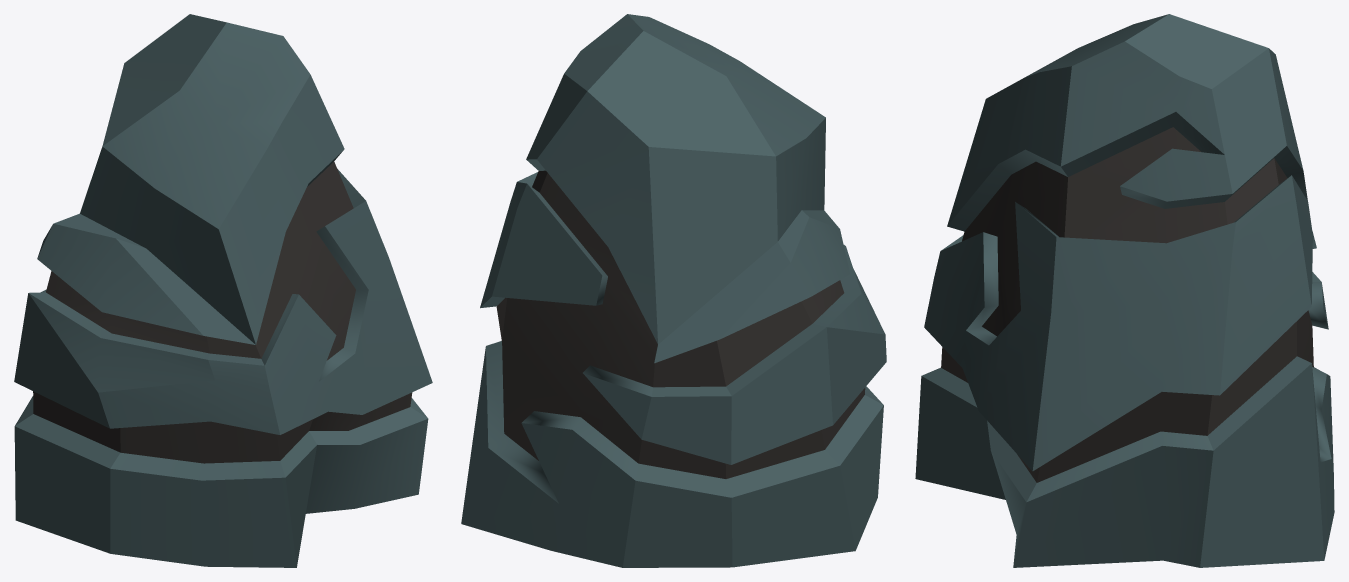
The model's file is Rock.fbx.
3 renders of one model, left to right at view 1: azimuth 30°, elevation 25°; view 2: azimuth 150°, elevation 25°; view 3: azimuth 270°, elevation 25°, orthographic. The views are drawn at different scales.
Parts seen in each view (by area): view 1: Rock; view 2: Rock; view 3: Rock.
Boxes of the visible parts, left/top/right/bottom form: Rock: left=14, top=14, right=432, bottom=567; Rock: left=461, top=14, right=886, bottom=567; Rock: left=915, top=14, right=1334, bottom=567.
Bounding box in the file's own units: 1.17 × 1.45 × 1.11.
